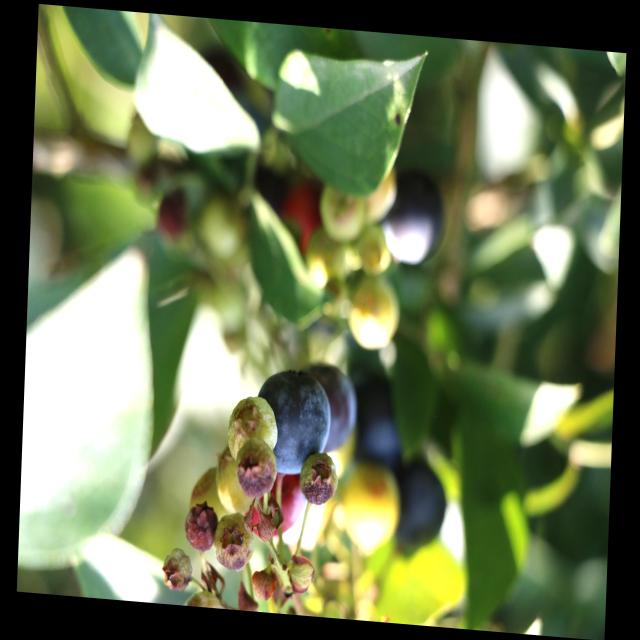blueberry: (248, 366, 331, 479), (378, 168, 452, 270), (296, 363, 358, 458), (388, 460, 452, 552), (348, 377, 406, 475)
blueberry-halfripe: (247, 466, 306, 540)
blueberry-unripe: (226, 393, 278, 472), (189, 466, 226, 533), (216, 455, 252, 519)
